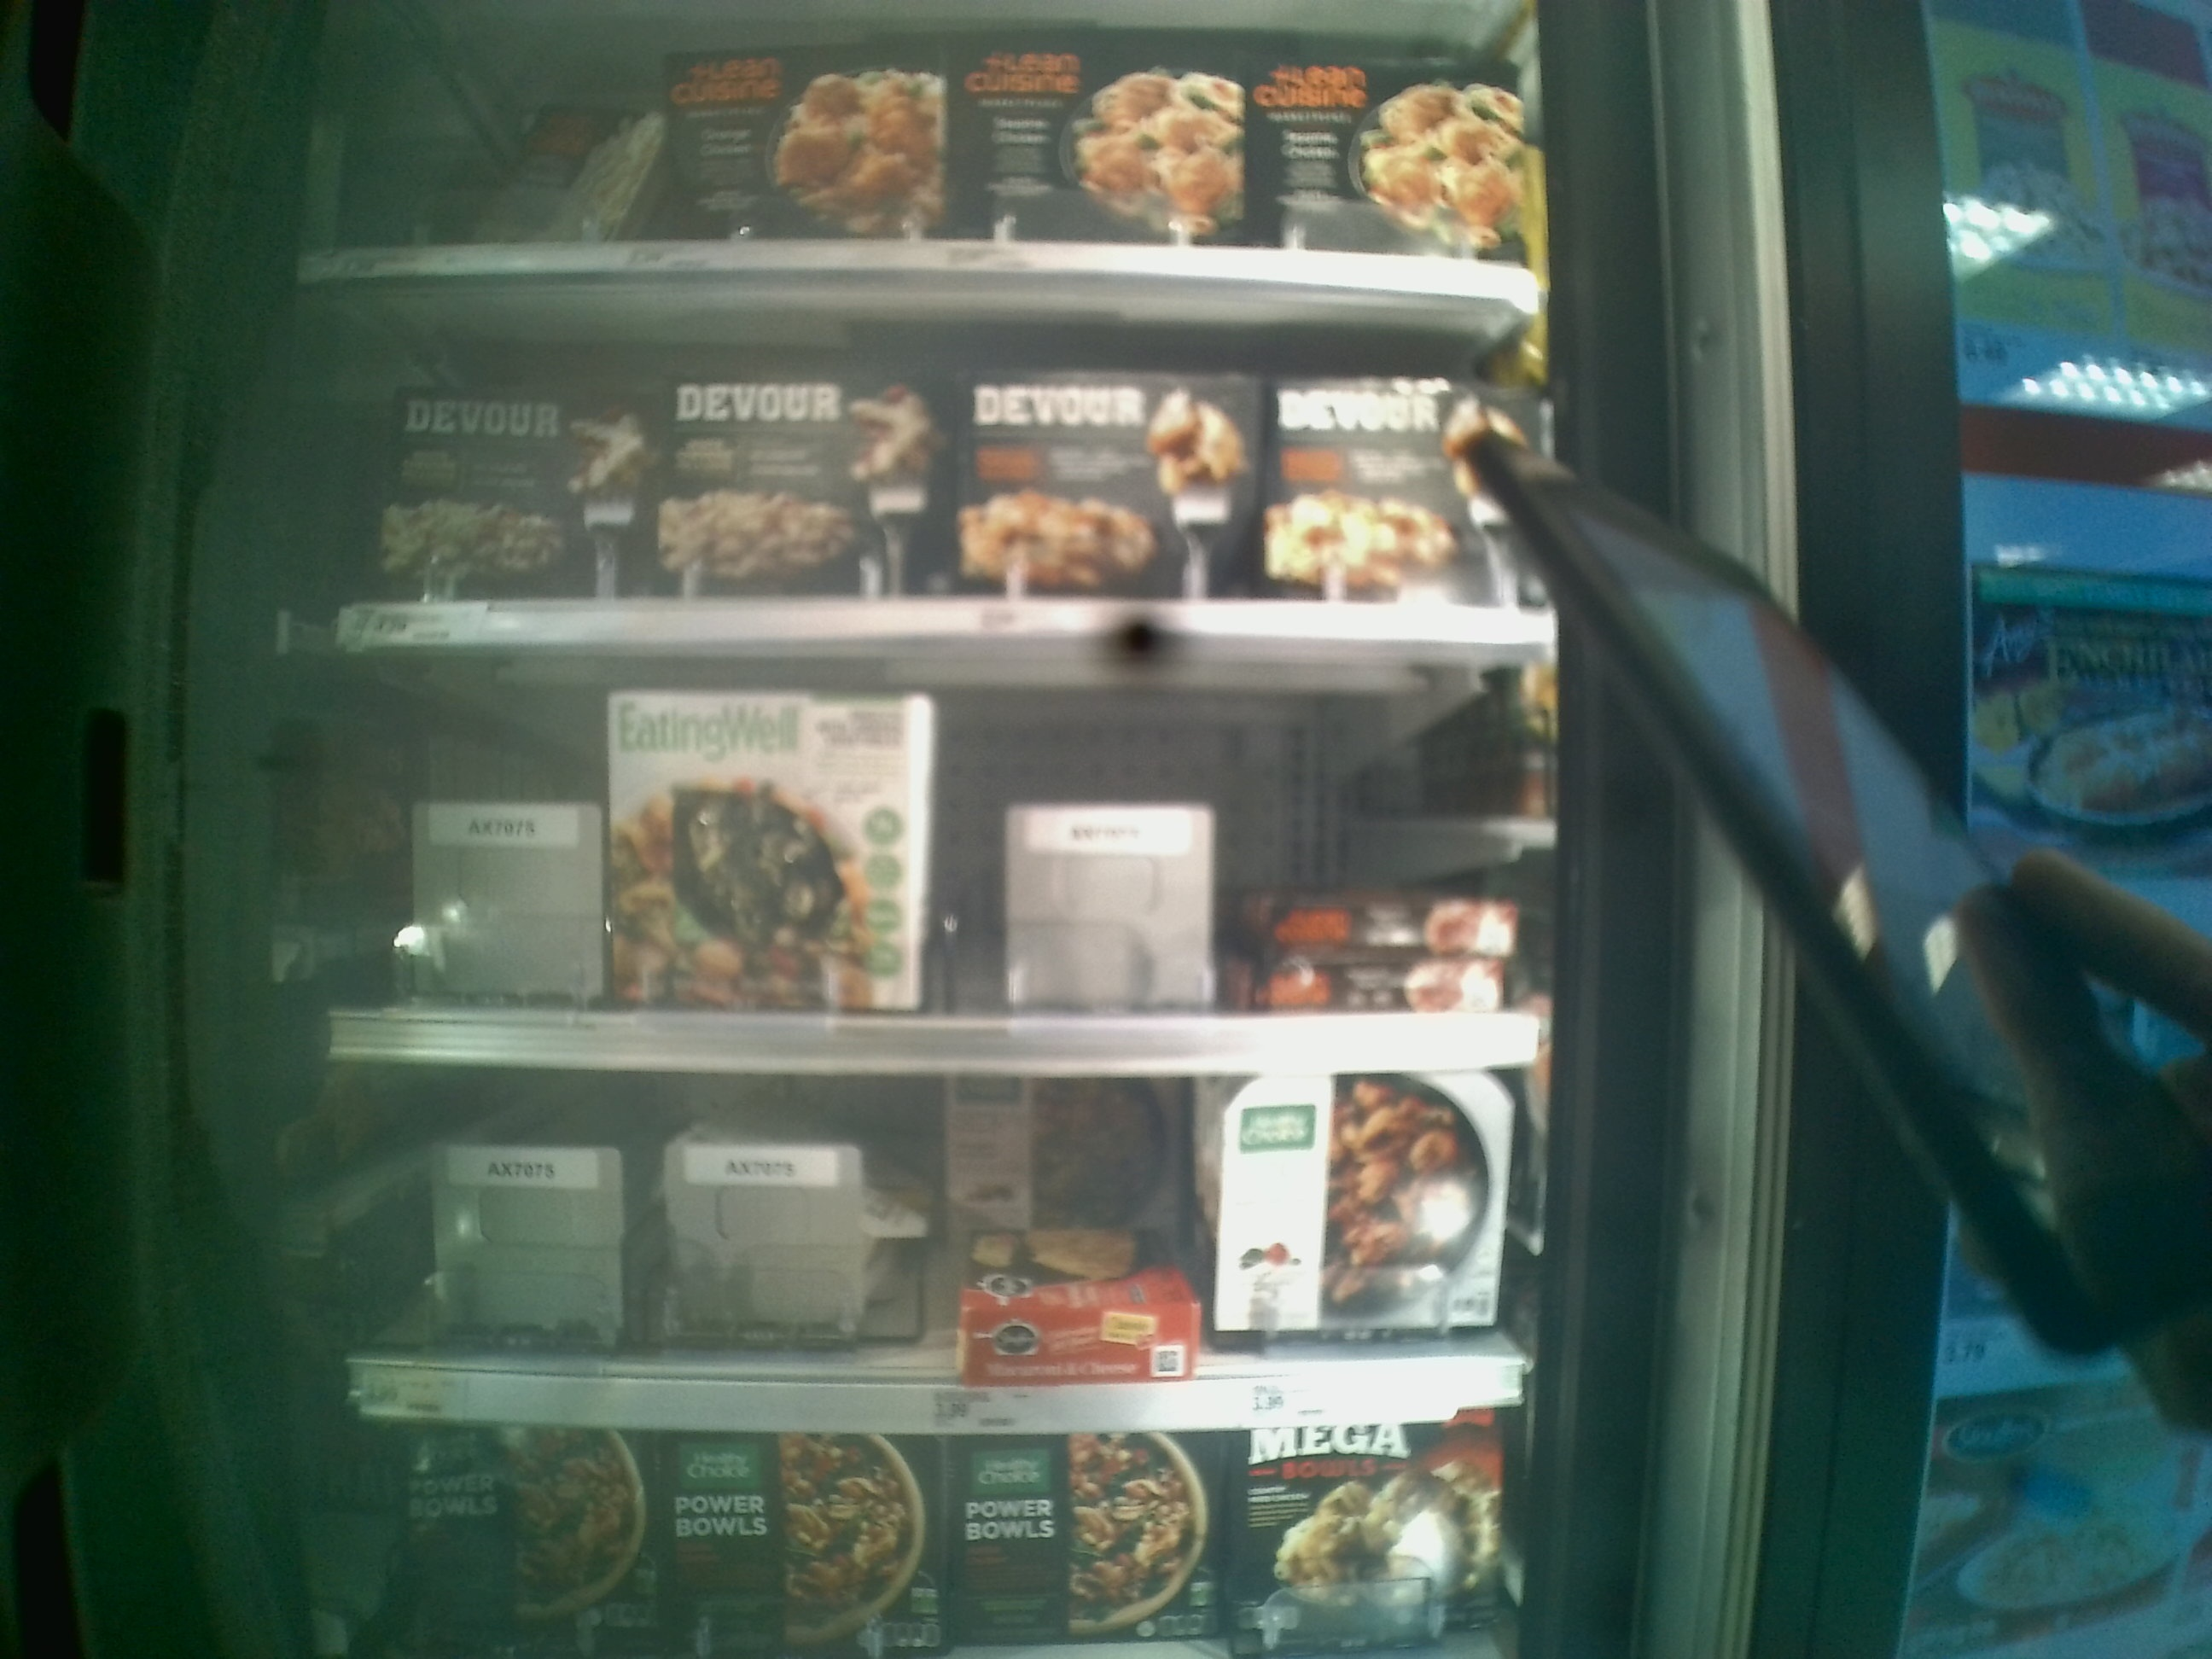shelf: (319, 638, 1564, 1063), (315, 1063, 1543, 1419)
